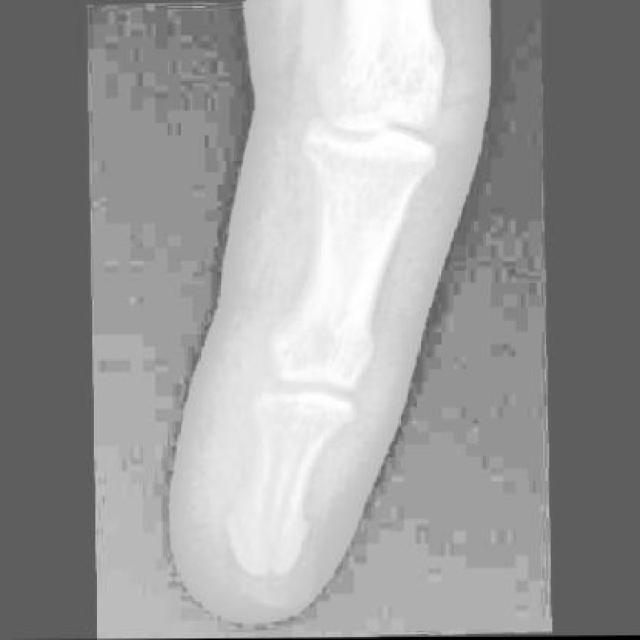Fracture: (219, 393, 353, 586)
